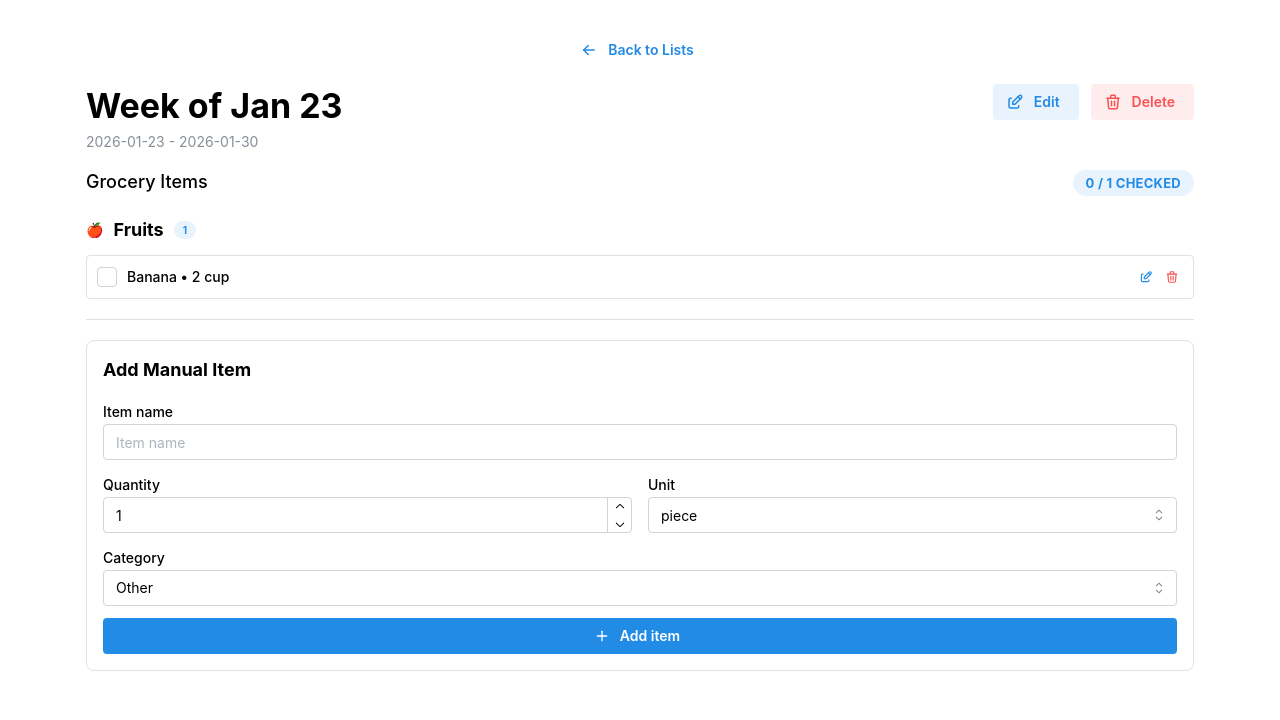
Test: GroceryListDetailPage › Edit List Name › should open edit modal when edit button is clicked
This screenshot has width=1280, height=720.
Click the button with test id "edit-list-button" at (1036, 102), box [993,84,1079,120]
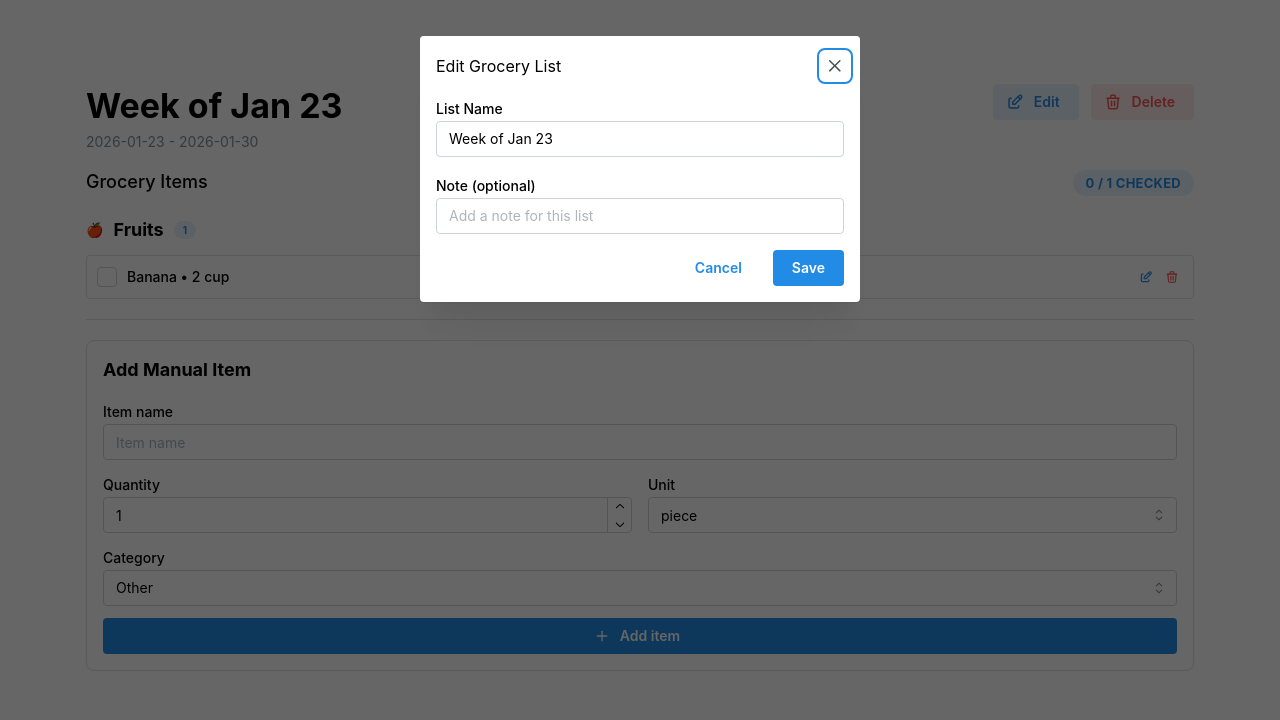
expect the heading "Edit Grocery List" is shown: met, box [436,58,561,74]
